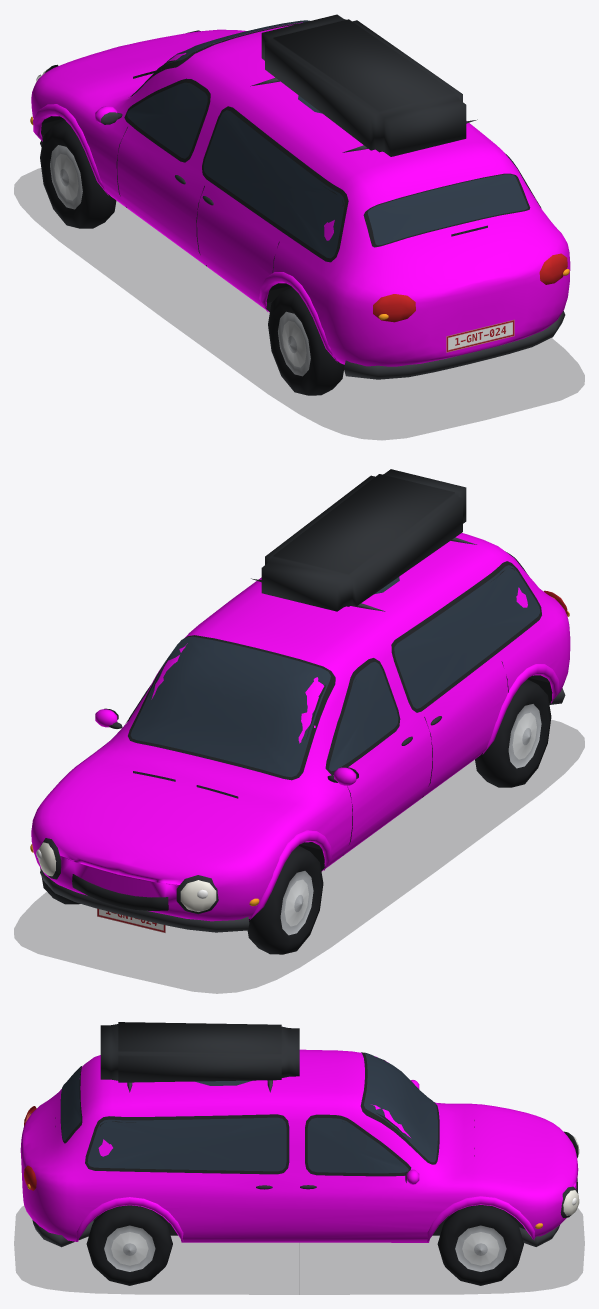
File: car-estate.obj
3 views of the same model, one above another, from view 1: azimuth 30°, elevation 25°; view 2: azimuth 150°, elevation 25°; view 3: azimuth 270°, elevation 25° (orthographic). The views are drawn at different scales.
Parts seen in each view (by area): view 1: body.rl, shadowpad.nocast, body.fl, opt.roofbox.nocast, body.rr, glass.win_rear.-1.nocast, glass.backlight.nocast, wheel.RL, wheel.FL, glass.win_front.-1.nocast, trim.bumper_rear, glass.frame.win_rear.-1.nocast (+9 smaller); view 2: body.fl, shadowpad.nocast, body.rl, body.fr, glass.windshield.nocast, opt.roofbox.nocast, glass.win_rear.-1.nocast, wheel.FL, wheel.RL, glass.win_front.-1.nocast, trim.bumper_front, glass.frame.windshield.nocast (+7 smaller); view 3: body.fr, body.rr, shadowpad.nocast, opt.roofbox.nocast, glass.win_rear.1.nocast, body.fl, wheel.FR, wheel.RR, glass.windshield.nocast, glass.win_front.1.nocast, glass.frame.win_rear.1.nocast, body.rl (+7 smaller).
Boxes of the visible parts, box(x1,y1,x2,y2) form: body.rl: box(106, 71, 480, 366); shadowpad.nocast: box(14, 168, 584, 439); body.fl: box(31, 32, 269, 312); opt.roofbox.nocast: box(261, 14, 466, 156); body.rr: box(418, 121, 570, 350); glass.win_rear.-1.nocast: box(203, 110, 344, 258); glass.backlight.nocast: box(367, 174, 527, 245); wheel.RL: box(268, 287, 344, 395); wheel.FL: box(40, 120, 116, 228); glass.win_front.-1.nocast: box(127, 82, 207, 158); trim.bumper_rear: box(344, 311, 565, 379); glass.frame.win_rear.-1.nocast: box(202, 106, 348, 262); body.fl: box(118, 610, 486, 921); shadowpad.nocast: box(14, 720, 584, 993); body.rl: box(303, 533, 570, 865); body.fr: box(31, 600, 301, 895); glass.windshield.nocast: box(130, 636, 330, 777); opt.roofbox.nocast: box(261, 469, 466, 611); glass.win_rear.-1.nocast: box(394, 565, 540, 708); wheel.FL: box(247, 845, 323, 954); wheel.RL: box(475, 679, 551, 787); glass.win_front.-1.nocast: box(329, 662, 398, 771); trim.bumper_front: box(40, 869, 249, 932); glass.frame.windshield.nocast: box(128, 635, 335, 780); body.fr: box(181, 1070, 578, 1242); body.rr: box(20, 1075, 429, 1241); shadowpad.nocast: box(14, 1206, 584, 1294); opt.roofbox.nocast: box(100, 1022, 299, 1082); glass.win_rear.1.nocast: box(87, 1117, 286, 1171); body.fl: box(299, 1049, 578, 1168); wheel.FR: box(437, 1205, 523, 1285); wheel.RR: box(86, 1205, 172, 1285); glass.windshield.nocast: box(364, 1052, 437, 1162); glass.win_front.1.nocast: box(307, 1117, 408, 1173); glass.frame.win_rear.1.nocast: box(85, 1114, 289, 1174); body.rl: box(21, 1055, 100, 1144).
Bounding box in the file's own units: 2.08 × 1.96 × 4.88.
Materials: 16 (1 with a texture image).
